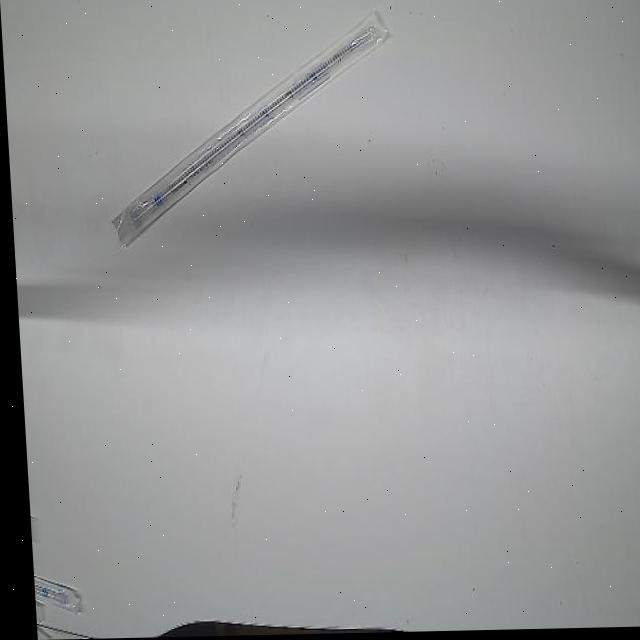Serelogical Pipet 5 mL - Sealed: (97, 5, 401, 256)
